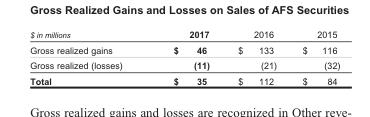table: (29, 28, 339, 85)
table column: (29, 28, 147, 85), (147, 28, 223, 85), (223, 28, 288, 85), (288, 28, 339, 85)
table column header: (29, 28, 339, 41)
table row: (29, 41, 339, 57), (29, 57, 339, 72), (29, 28, 339, 41), (29, 72, 339, 85)
